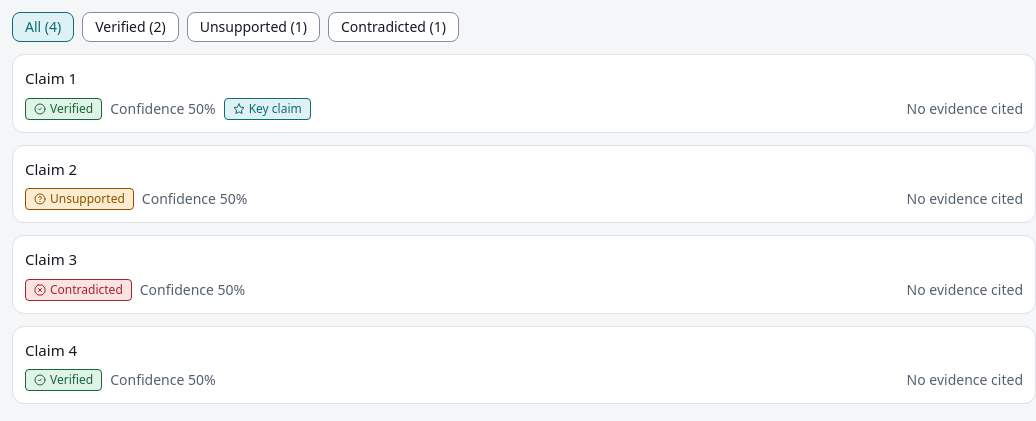
Test: claim filtering › filters in the UI, shows counts, and marks key claims
The width and height of the screenshot is (1036, 421).
Expected: the button "Verified (2)" is shown, [82,12,179,42]
Expected: the text "Key claim" is shown, [224,98,311,120]
Click the button "Contradicted (1)" at (394, 27), box [328,12,459,42]
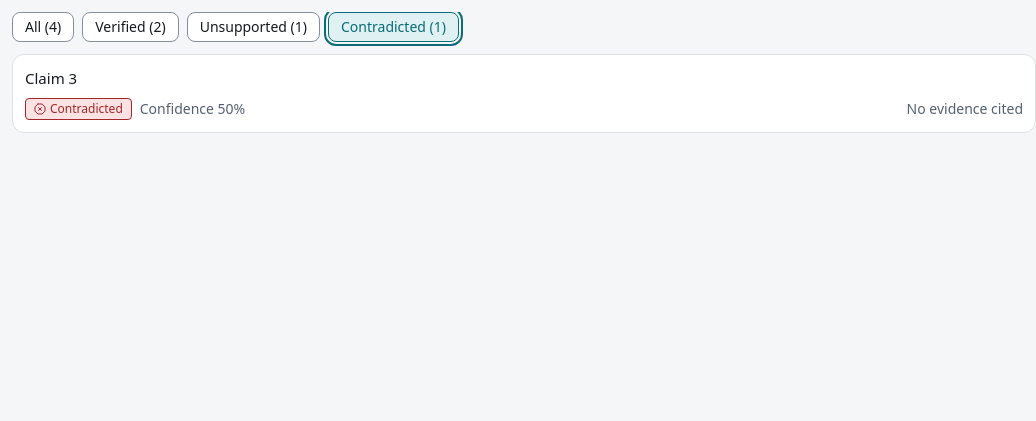
Expected: the text "Claim 3" is shown, [25,68,77,88]
Expected: the text "Claim 1" is gone
